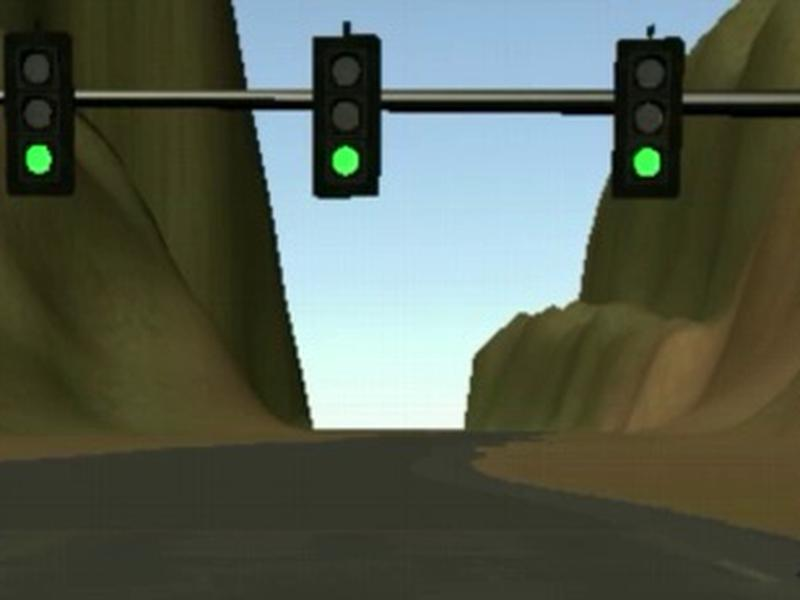Green: (612, 36, 686, 199), (5, 31, 75, 198), (312, 34, 382, 199)
